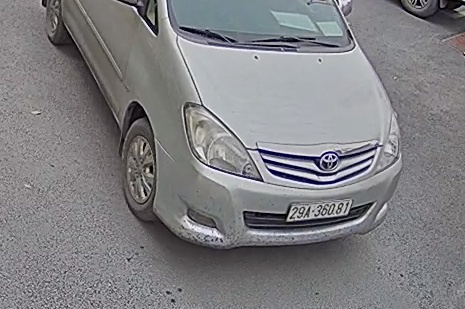vehicle plate: (283, 197, 352, 223)
